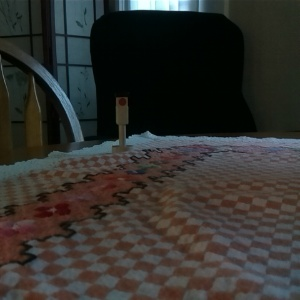traffic light red: (110, 89, 136, 156)
